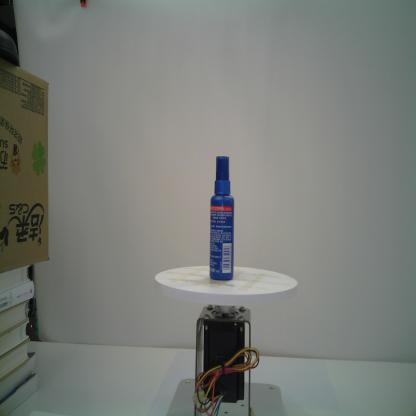Personal Hygiene: (209, 153, 236, 281)
